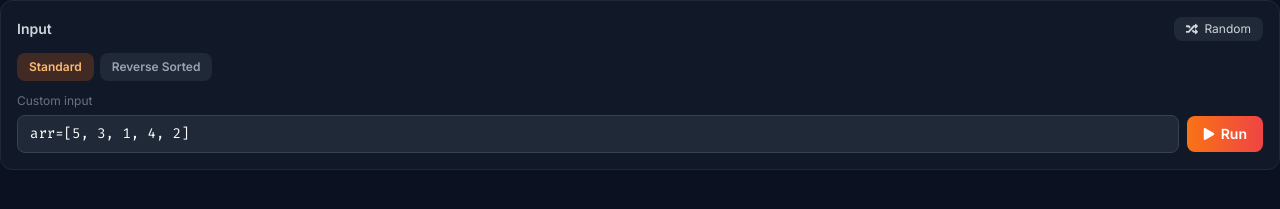
Scenario: InputPanel › shows an error for malformed input (no = sign)
This screenshot has width=1280, height=209.
Replace the text in the field with placeholder "arr=[5,3,8,1,9,2]" with "no_equals_sign" at (598, 134), box [17, 115, 1179, 153]
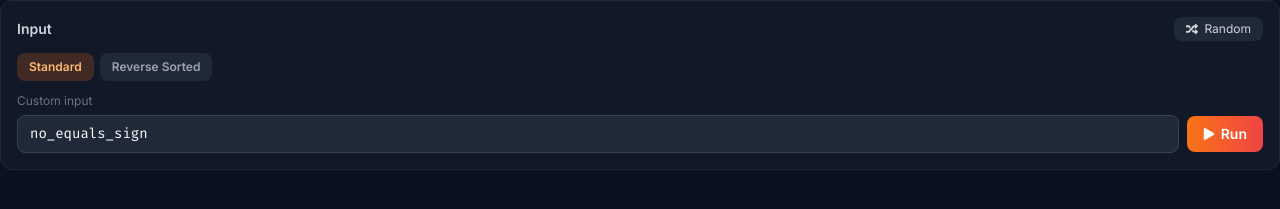
Click the button "Run".
click(1225, 134)  # box [1187, 116, 1263, 152]
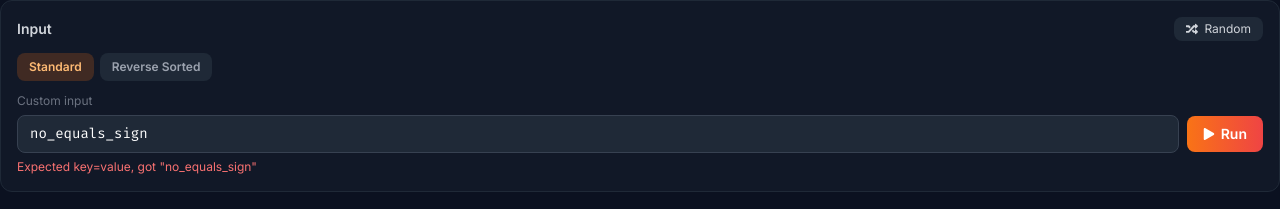
Expected: the text "Expected key=value, got \"no_equals_sign\"" is shown, [17, 159, 257, 174]
